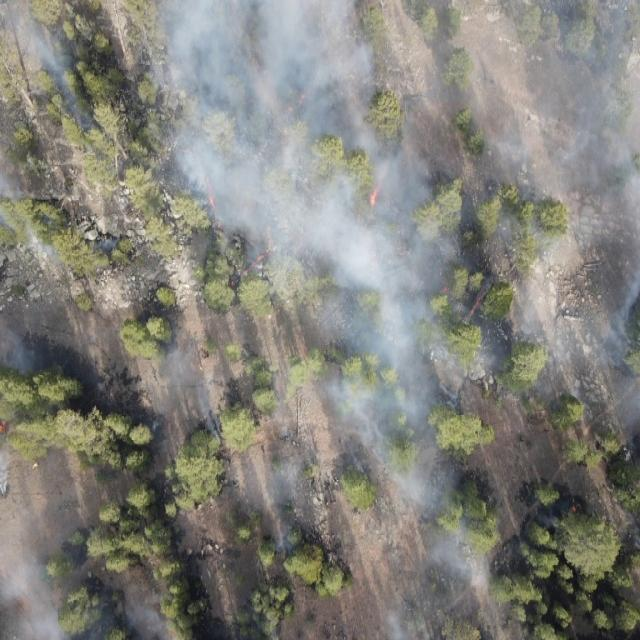fire: (228, 250, 275, 288), (198, 174, 222, 226), (280, 89, 308, 117), (366, 182, 384, 216), (468, 292, 486, 323), (434, 280, 452, 298), (0, 418, 10, 439), (568, 503, 579, 521)
smoke: (108, 0, 640, 272), (308, 272, 517, 640), (0, 0, 83, 279), (513, 270, 640, 441), (0, 562, 175, 640), (249, 412, 325, 554), (153, 336, 222, 454), (0, 324, 45, 384), (0, 446, 16, 502), (534, 503, 568, 529)
